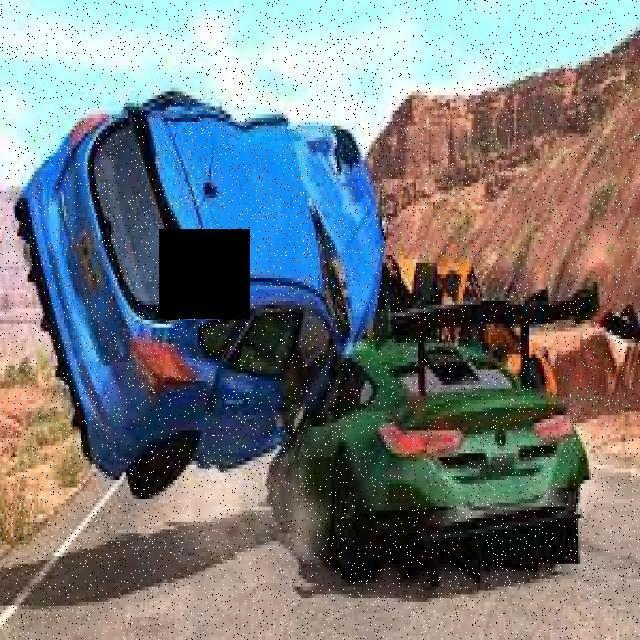multiple_accident: (15, 72, 590, 597)
